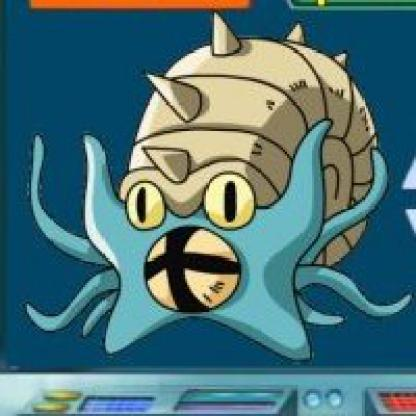Omastar: (20, 11, 411, 364)
